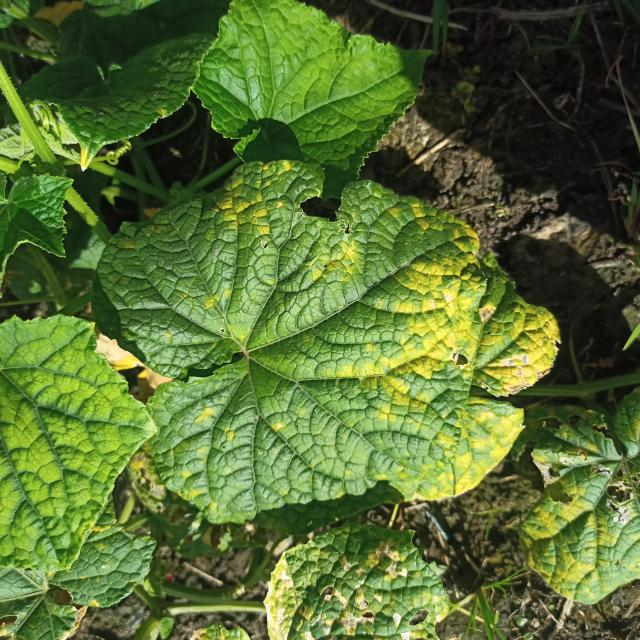disease_cucumber: (340, 182, 559, 520), (201, 159, 364, 314)
